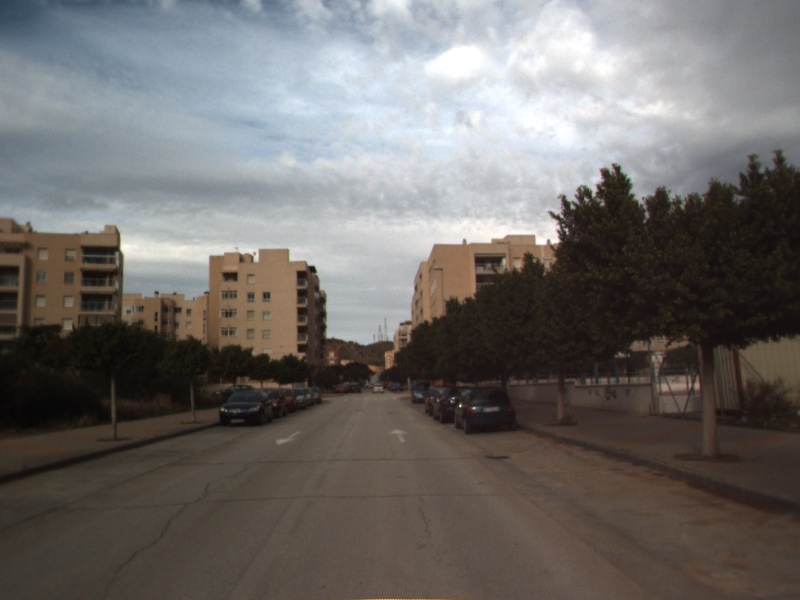STRAIGHT: (386, 426, 412, 444)
